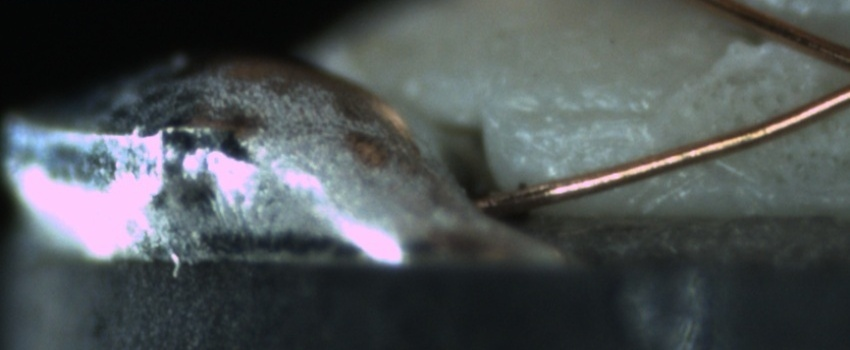DL: (506, 82, 658, 151)
